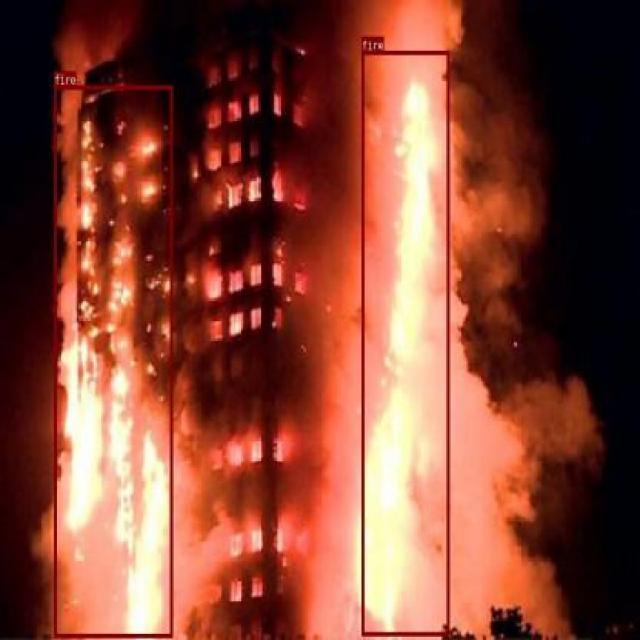fire: (53, 85, 172, 638), (362, 49, 449, 636)
